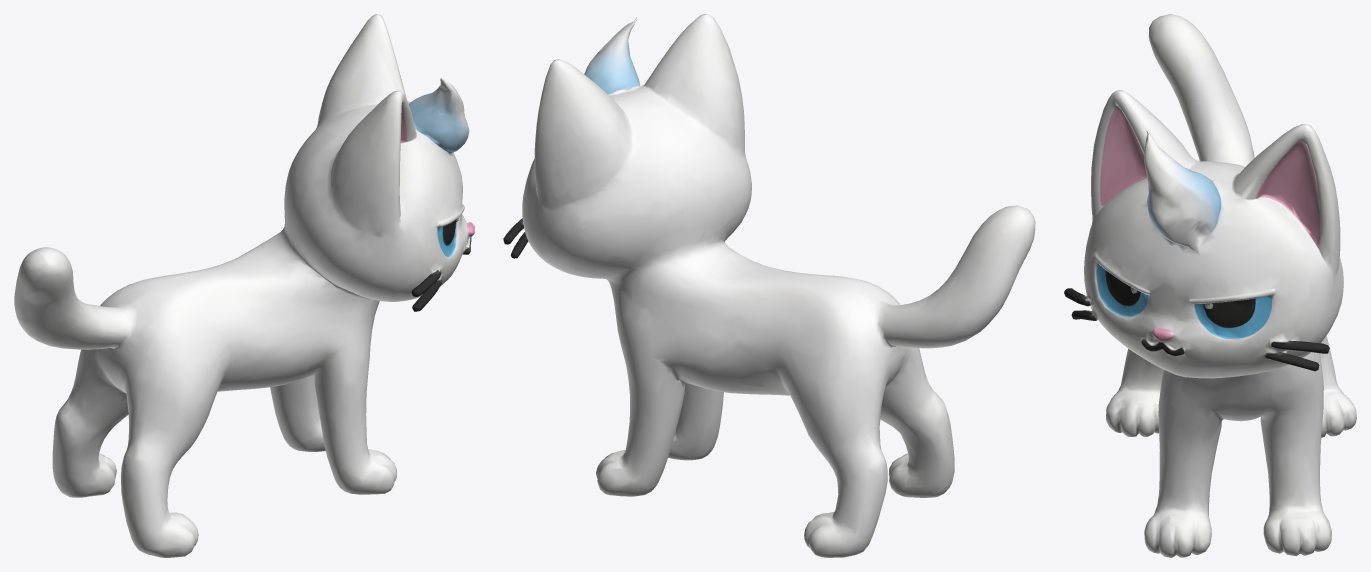
File: cat-in-a-dogs-world.glb
3 views of the same model, side by side, from view 1: azimuth 30°, elevation 25°; view 2: azimuth 150°, elevation 25°; view 3: azimuth 270°, elevation 25° (orthographic). The views are drawn at different scales.
Visible parts, largest first — view 1: tripo_node_b2468874-d7e3-4a1c-a0d0-85fff3c9fa11; view 2: tripo_node_b2468874-d7e3-4a1c-a0d0-85fff3c9fa11; view 3: tripo_node_b2468874-d7e3-4a1c-a0d0-85fff3c9fa11.
Part boxes in pixels (x1,y1,x2,y2): tripo_node_b2468874-d7e3-4a1c-a0d0-85fff3c9fa11: (14, 14, 474, 557); tripo_node_b2468874-d7e3-4a1c-a0d0-85fff3c9fa11: (503, 14, 1035, 557); tripo_node_b2468874-d7e3-4a1c-a0d0-85fff3c9fa11: (1064, 14, 1356, 557).
Size of the model in its own units: 1.16 by 1 by 0.5744.
1 material, 1 textured.
